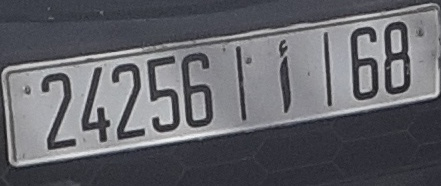2: (40, 71, 77, 151), (110, 61, 147, 141)
4: (79, 66, 112, 143)
5: (146, 55, 181, 134)
6: (181, 52, 215, 128), (348, 25, 380, 101)
8: (383, 20, 412, 95)
a: (276, 38, 295, 114)
